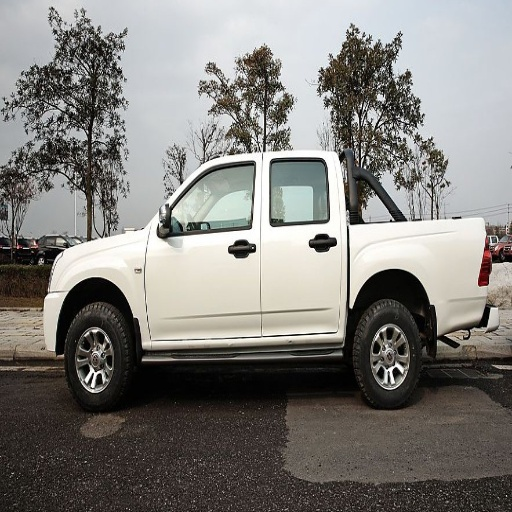back_left_door: (262, 156, 342, 335)
trunk: (334, 225, 486, 335)
